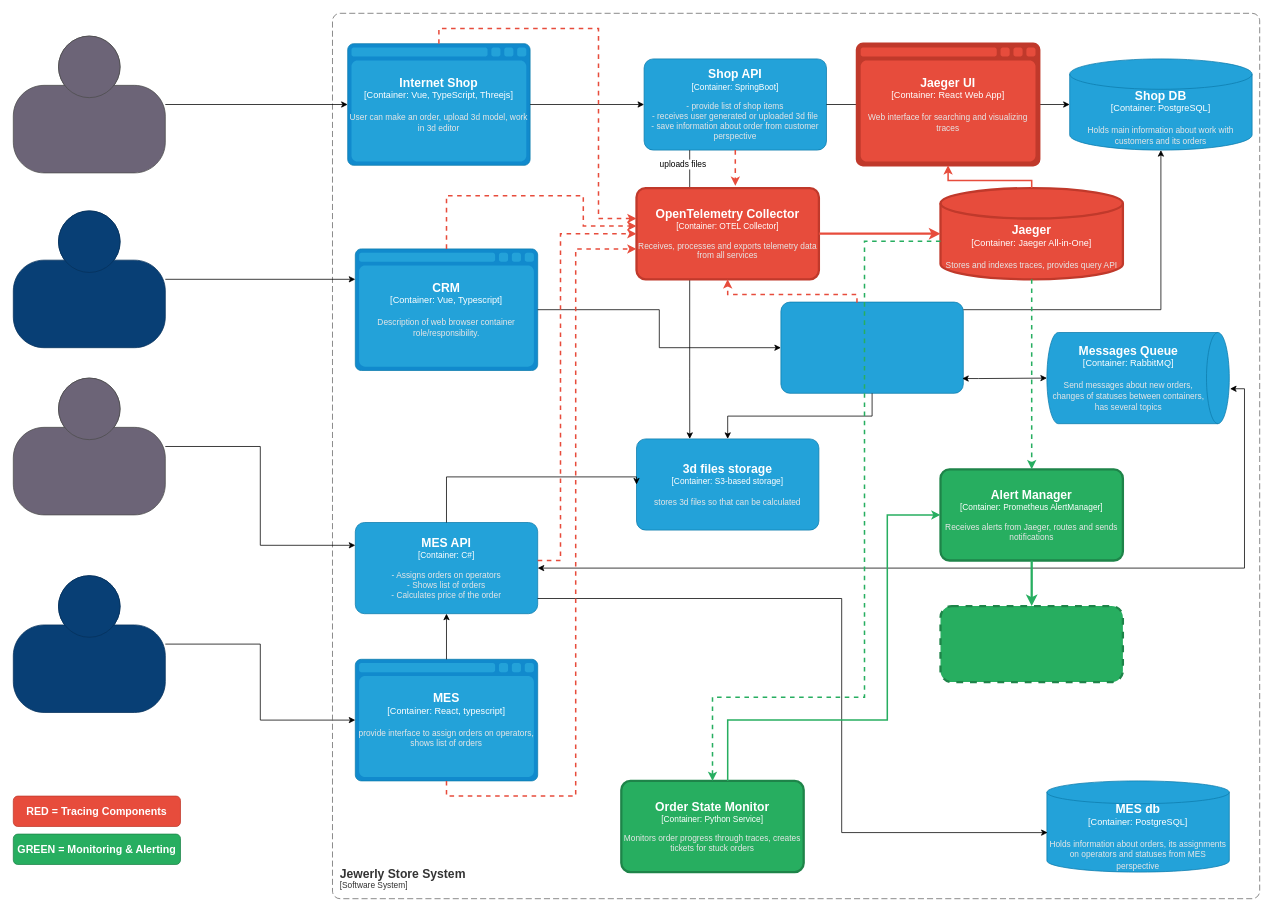
Some shapes in this 1273 by 912 pixel diagram are drawn without their labels. The shapes that lost their labels are listed below. From the top down, each one's centre as x and y in pixels, then its label:
At pixel 89 104: "Customer [Person] Description of external person.".
At pixel 89 279: "Seller [Person] Operates with order, confirms manufacturing for the user".
At pixel 871 347: "CRM API [Container: SpringBoot] Description of container role/responsibility.".
At pixel 89 446: "API user [Person] Description of external person.".
At pixel 89 643: "Operator [Person] Takes order in work, manufactures jewerly".
At pixel 1031 644: "Slack / PagerDuty [External System] Receives alerts and notifications".
